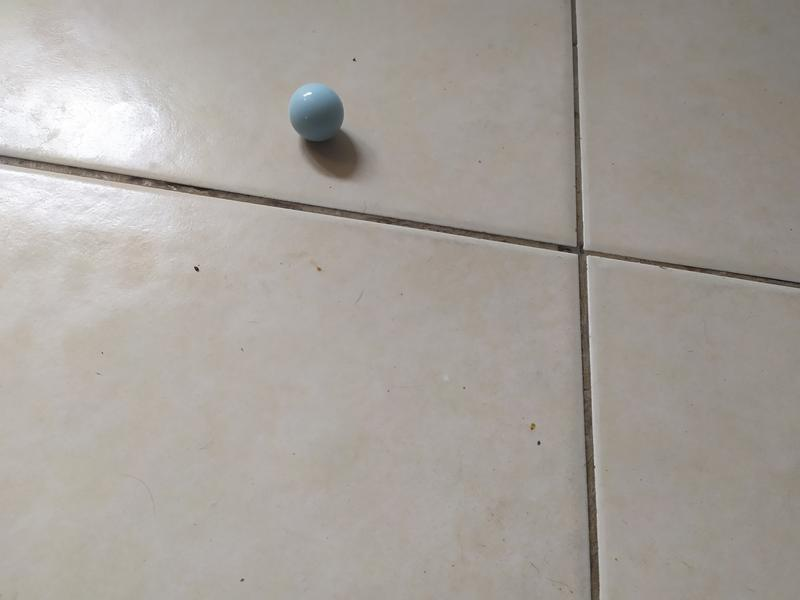Warning: (285, 81, 346, 144)
